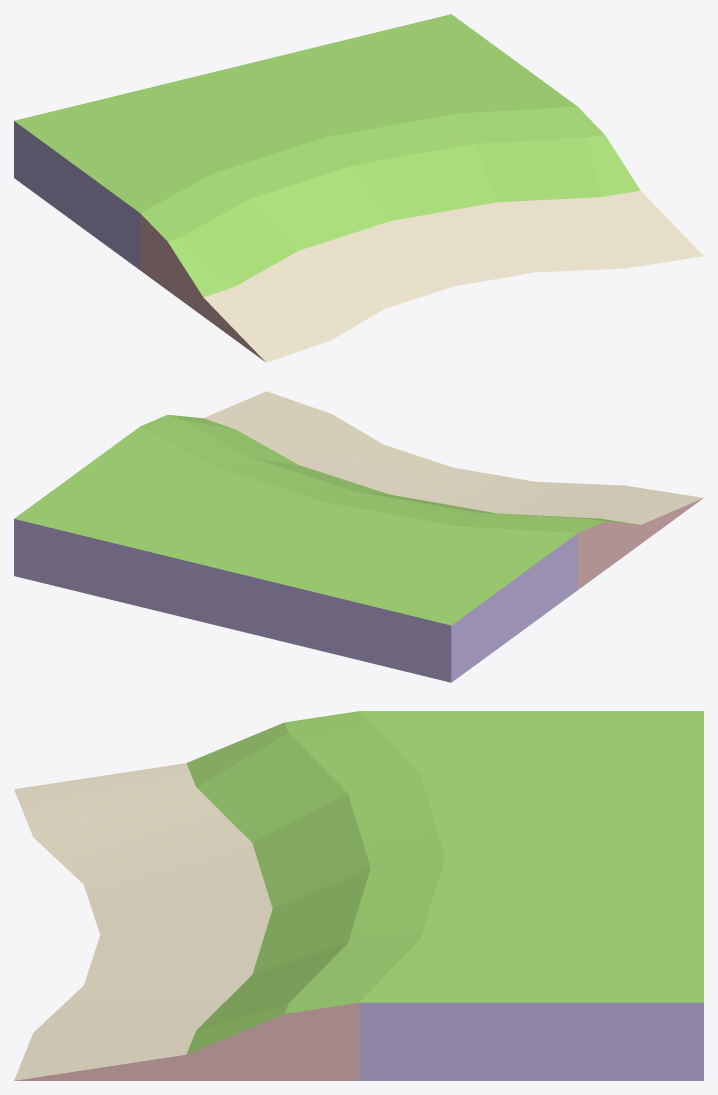
File: Path_Terrain_Deformed_Straight_Concave_2x2.fbx
3 renders of one model, top to bottom at view 1: azimuth 30°, elevation 25°; view 2: azimuth 150°, elevation 25°; view 3: azimuth 270°, elevation 25°, orthographic. The views are drawn at different scales.
Visible parts, largest first — view 1: Path_Terrain_Deformed_Straight_Concave_2x2; view 2: Path_Terrain_Deformed_Straight_Concave_2x2; view 3: Path_Terrain_Deformed_Straight_Concave_2x2.
Part boxes in pixels (bbox=[...]): Path_Terrain_Deformed_Straight_Concave_2x2: bbox=[14, 14, 703, 362]; Path_Terrain_Deformed_Straight_Concave_2x2: bbox=[14, 391, 703, 682]; Path_Terrain_Deformed_Straight_Concave_2x2: bbox=[14, 711, 703, 1080].
Size of the model in its own units: 200 by 25 by 200.
